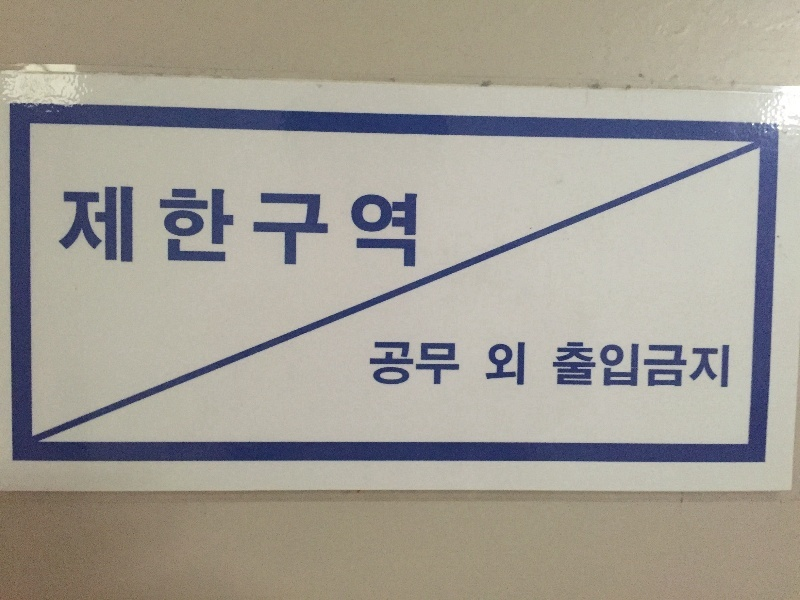text: (65, 187, 80, 267), (81, 187, 96, 267), (97, 187, 112, 267), (113, 187, 128, 267), (129, 187, 144, 267), (145, 187, 160, 267), (161, 187, 176, 267), (177, 187, 192, 267), (193, 187, 208, 267), (209, 187, 224, 267), (225, 187, 240, 267), (241, 187, 256, 267), (257, 187, 272, 267), (273, 187, 288, 267), (289, 187, 304, 267), (305, 187, 320, 267), (321, 187, 336, 267), (337, 187, 352, 267), (353, 187, 368, 267), (369, 187, 384, 267), (385, 187, 400, 267), (401, 187, 416, 267), (385, 341, 400, 389), (401, 341, 416, 389), (417, 341, 432, 389), (433, 341, 448, 389), (561, 342, 576, 388), (577, 342, 592, 388), (593, 342, 608, 388), (609, 342, 624, 388), (625, 342, 640, 388), (641, 342, 656, 388), (657, 342, 672, 388), (673, 342, 688, 388), (689, 342, 704, 388), (705, 342, 720, 388), (497, 342, 512, 387), (371, 341, 384, 389), (449, 341, 461, 389), (513, 342, 524, 387), (721, 342, 729, 388), (490, 342, 496, 387), (556, 342, 560, 388)
